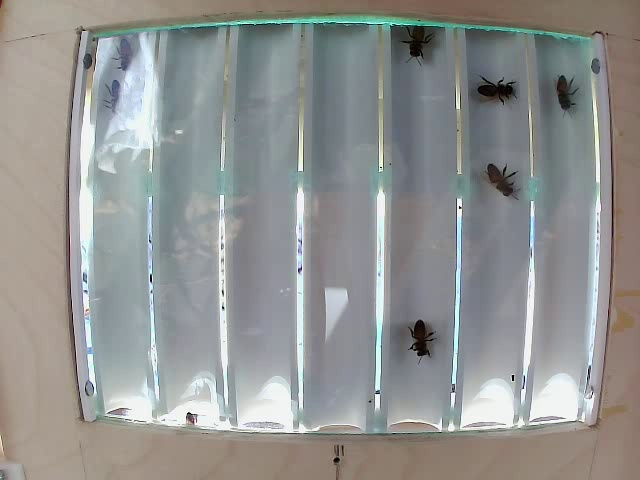bee: (397, 19, 438, 71), (109, 35, 151, 78), (464, 75, 516, 107), (549, 73, 580, 117), (100, 79, 134, 115), (489, 153, 513, 202), (414, 313, 436, 360)
